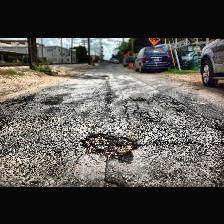pothole: (81, 132, 139, 158), (104, 178, 124, 186)
